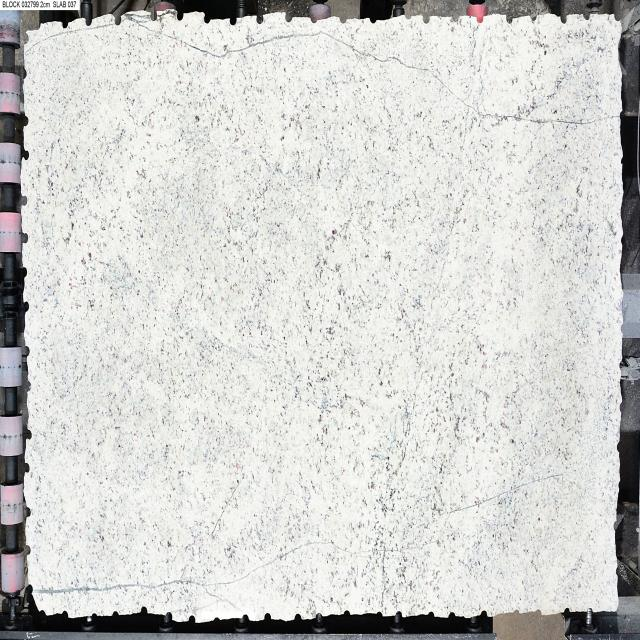chapa: (21, 14, 622, 621)
furo: (25, 578, 49, 627)
veio: (262, 609, 276, 628), (83, 11, 96, 31), (22, 372, 34, 393), (164, 609, 177, 628), (252, 10, 266, 26), (172, 4, 185, 21), (20, 456, 33, 473), (147, 3, 159, 21), (199, 6, 210, 25), (225, 11, 238, 27), (111, 9, 122, 27), (477, 605, 488, 623), (290, 612, 304, 626), (60, 16, 72, 32), (419, 9, 431, 25), (556, 9, 568, 25), (24, 424, 34, 443), (284, 8, 294, 26), (22, 110, 31, 130), (22, 541, 32, 559), (137, 602, 149, 617), (18, 191, 29, 207), (20, 226, 28, 246), (24, 500, 32, 520), (504, 11, 516, 24), (393, 607, 404, 621), (446, 607, 456, 621), (186, 612, 196, 625), (21, 144, 29, 160), (20, 298, 28, 314)
